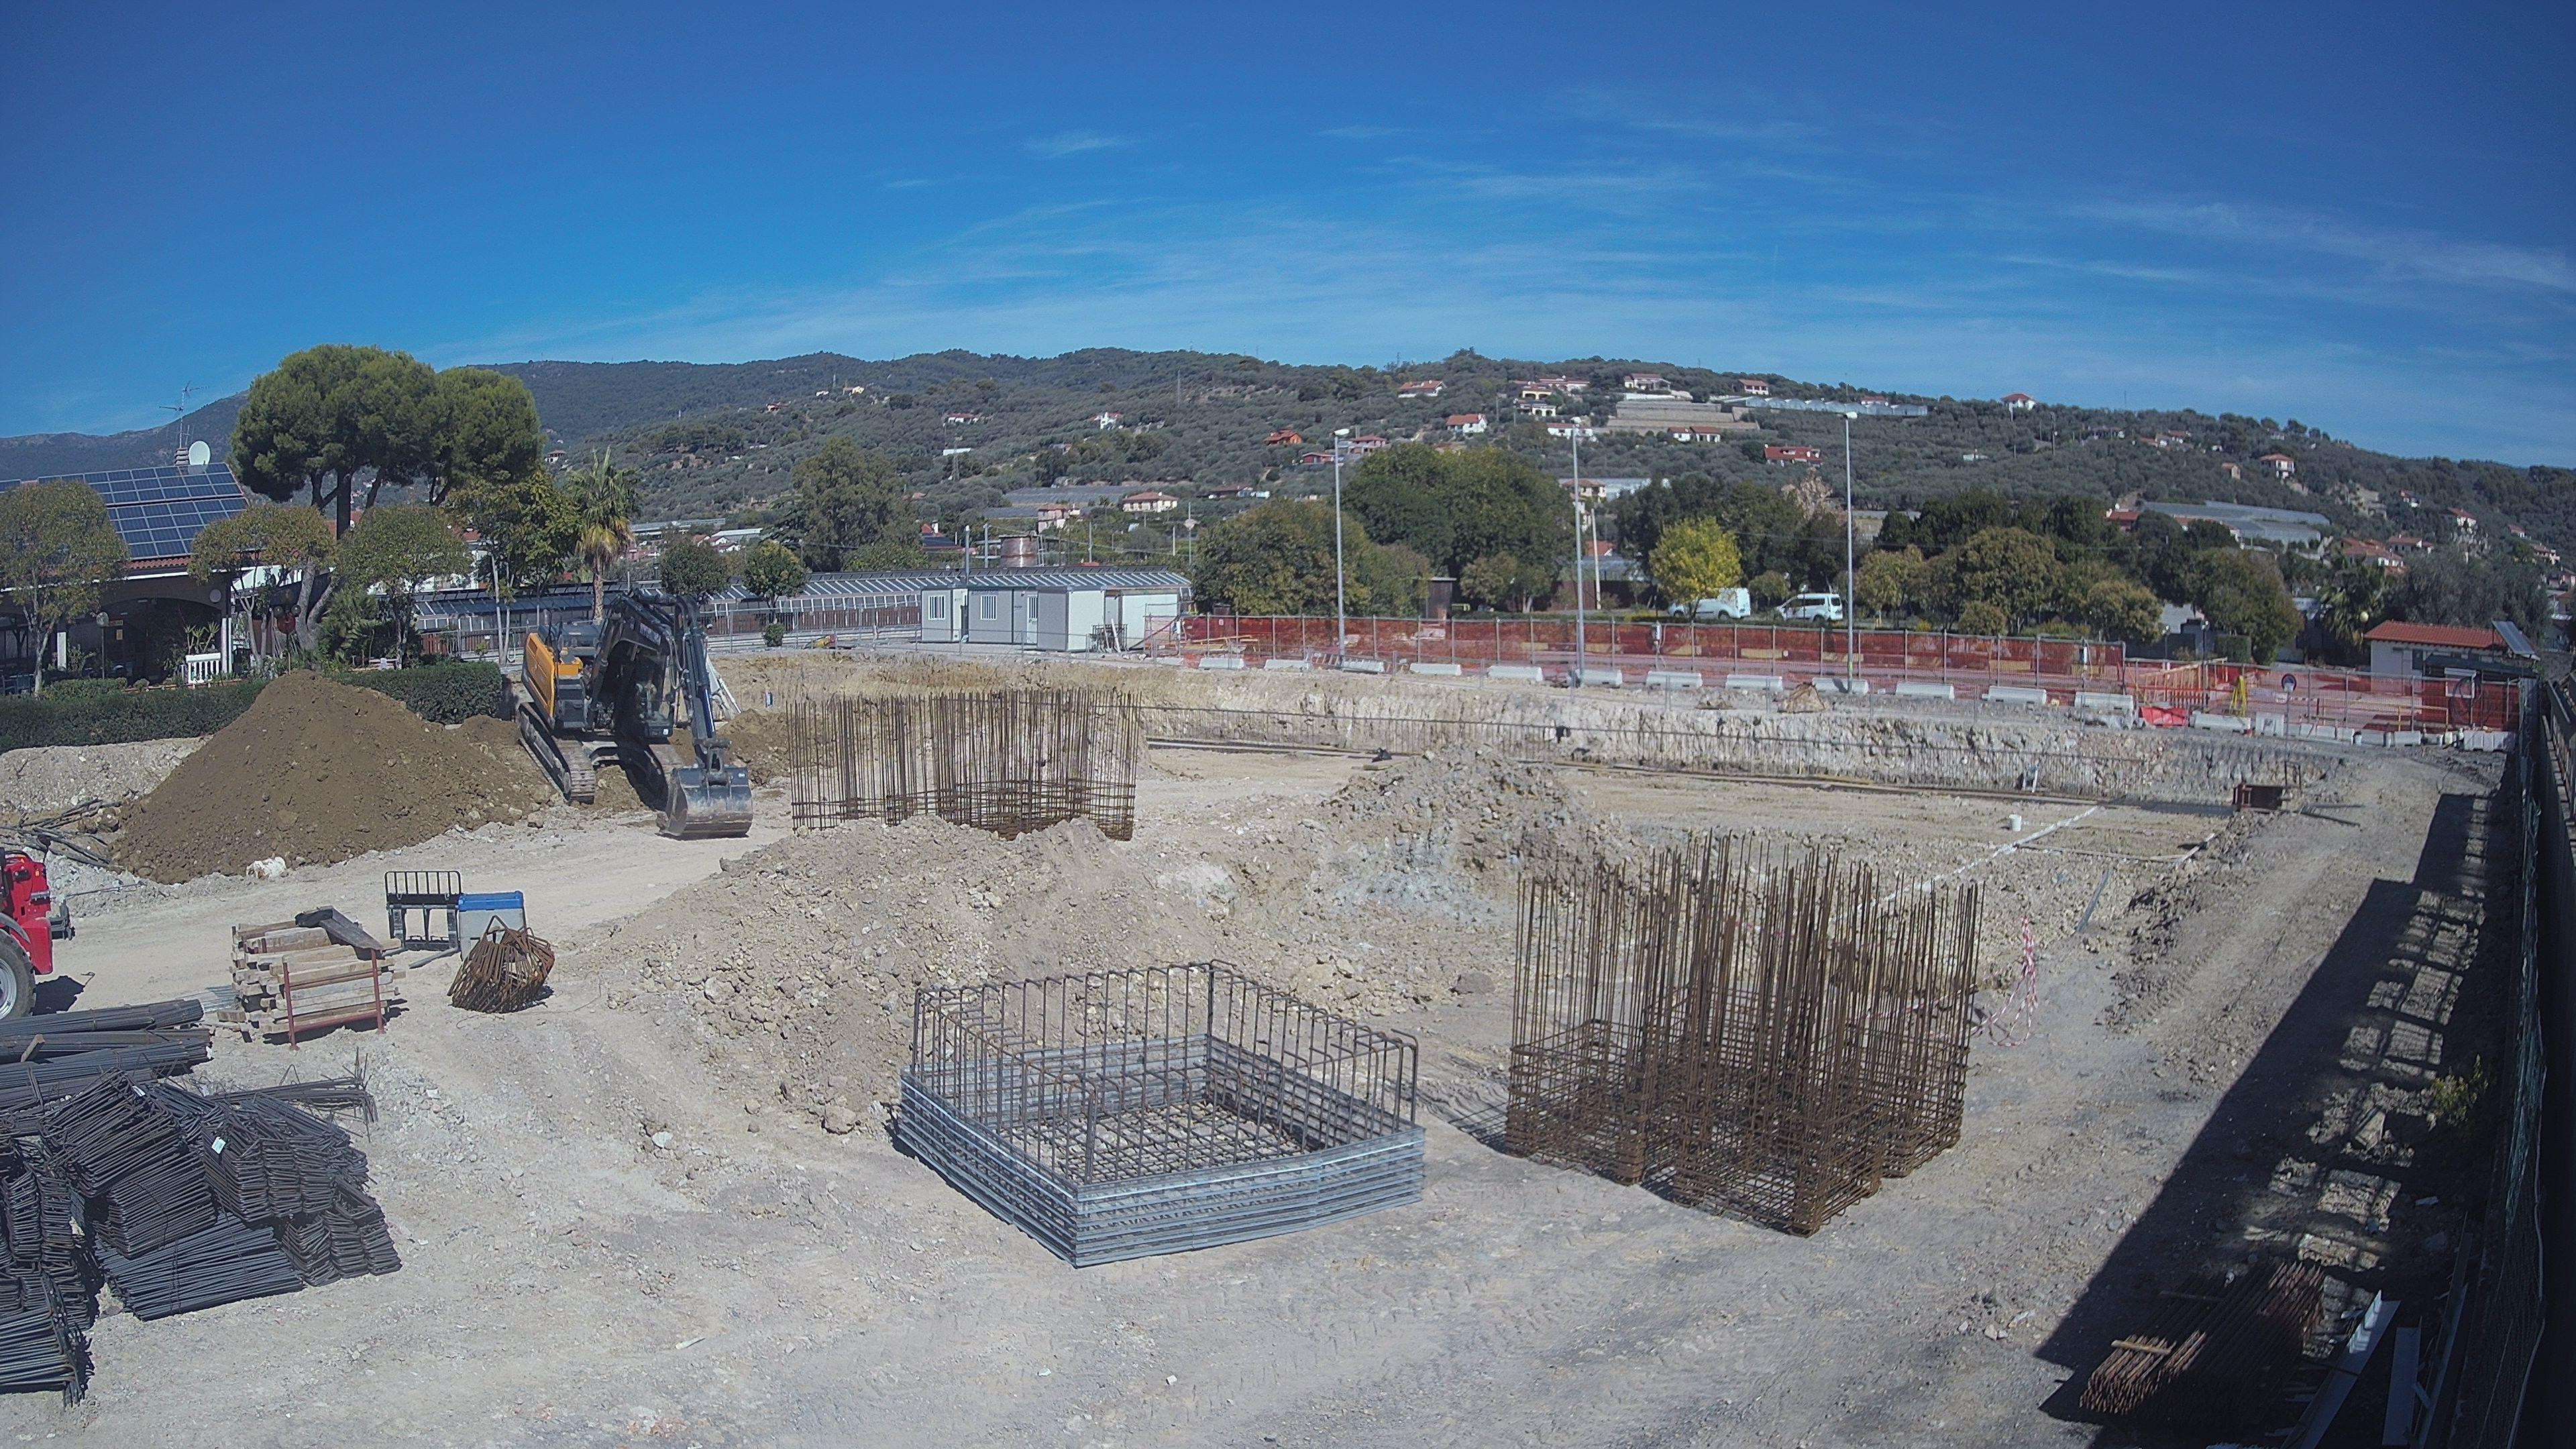Cars: (1667, 587, 1750, 623), (1766, 593, 1845, 628)
excavator: (515, 582, 754, 839), (702, 653, 741, 731), (663, 656, 692, 731)
